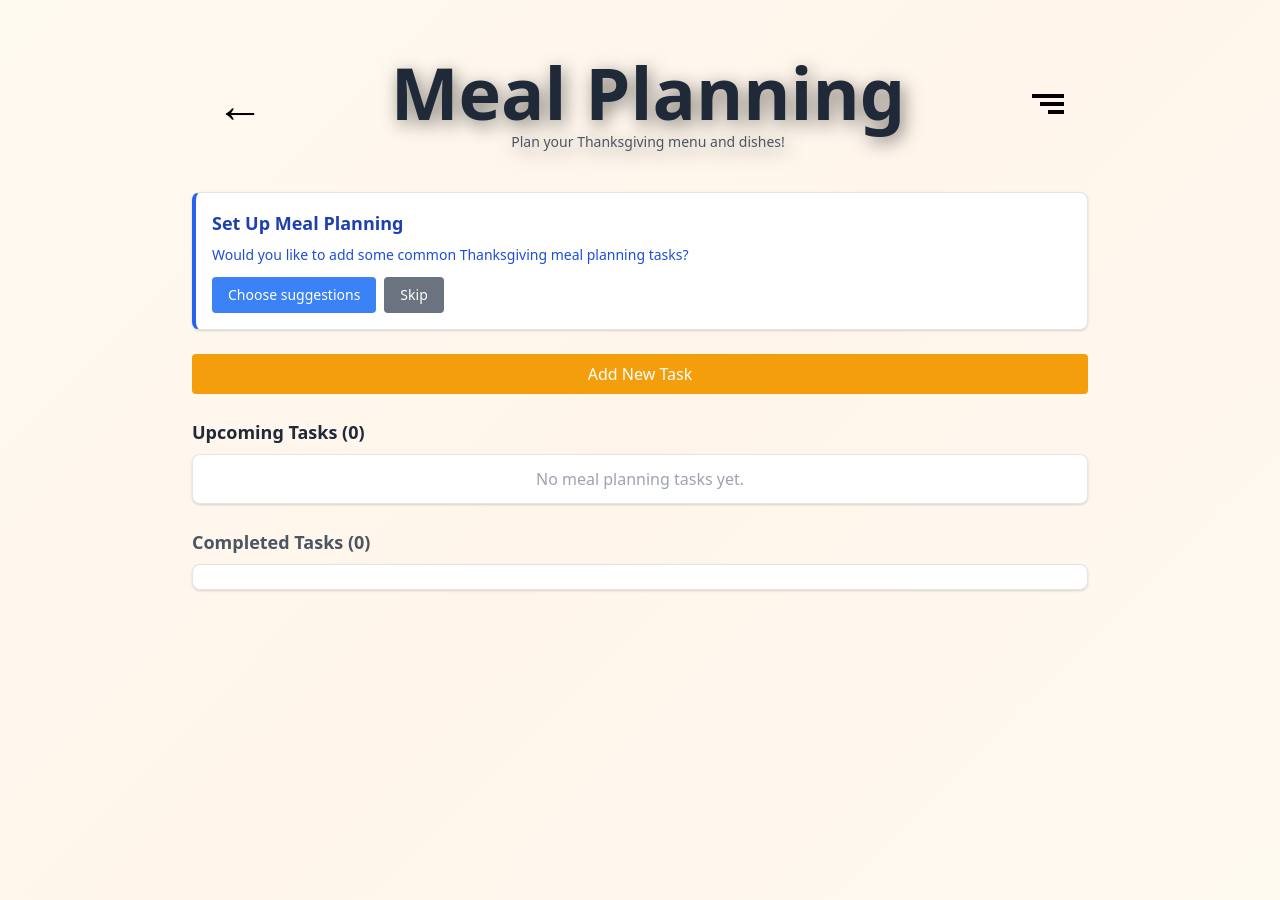
Test: Thanksgiving meal planning suggestions › stay open with a message when adding fails
Click the button "Choose suggestions" at (294, 295), box left=212, top=277, right=376, bottom=313
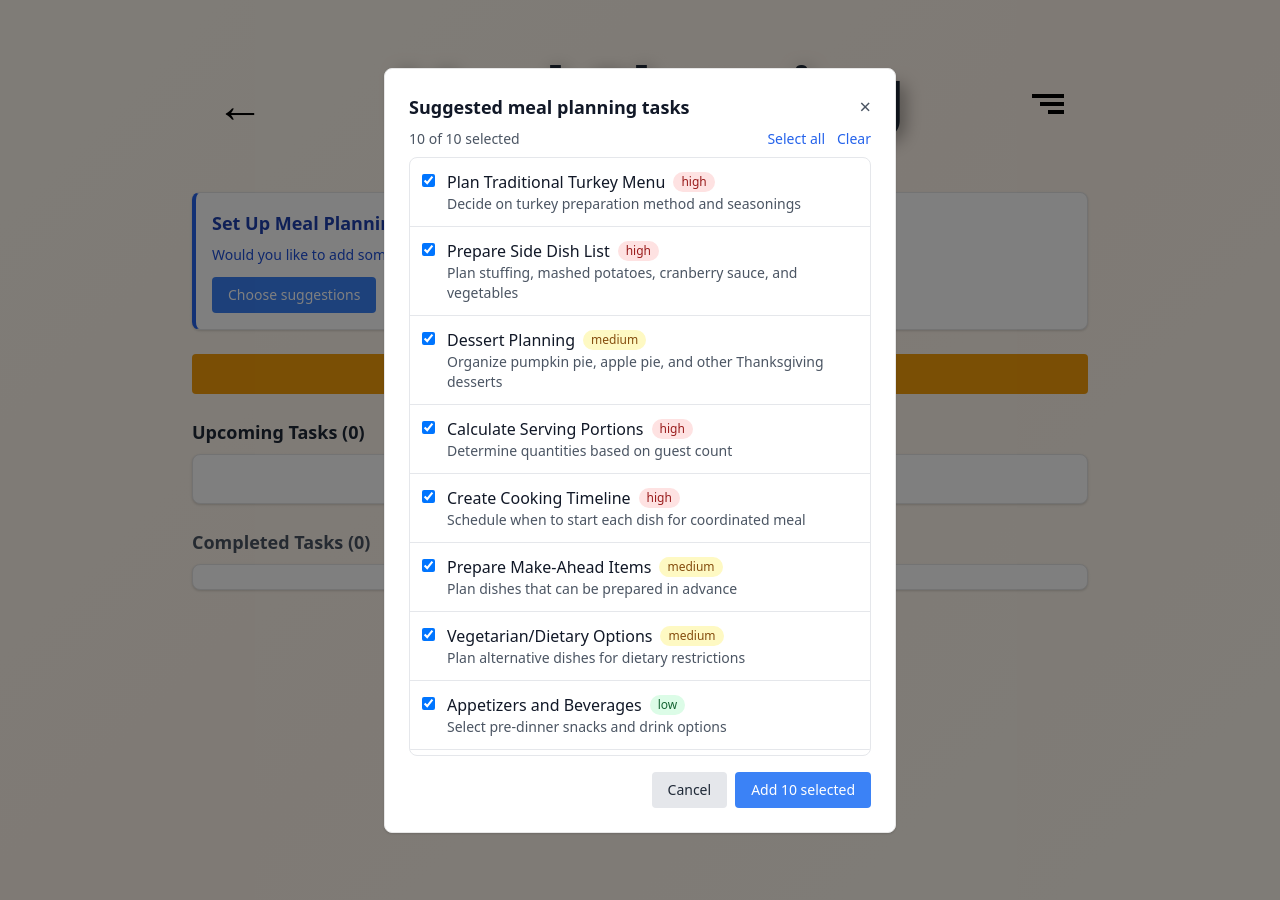
Click the button "Add 10 selected" at (803, 790), box left=735, top=772, right=871, bottom=808
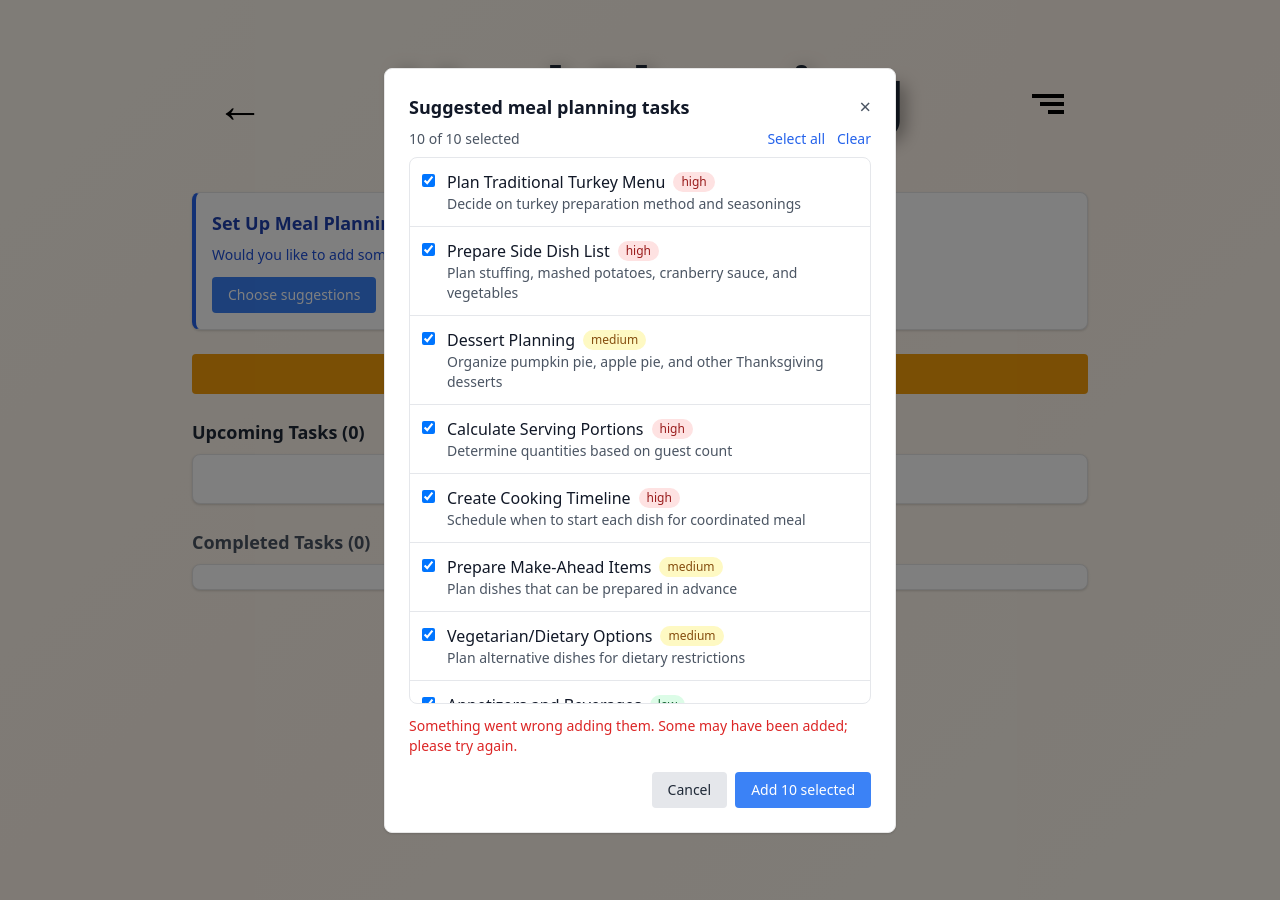
Now the dialog is shown, box left=384, top=68, right=896, bottom=832
Now the message shows "Something went wrong", box left=409, top=716, right=848, bottom=754
